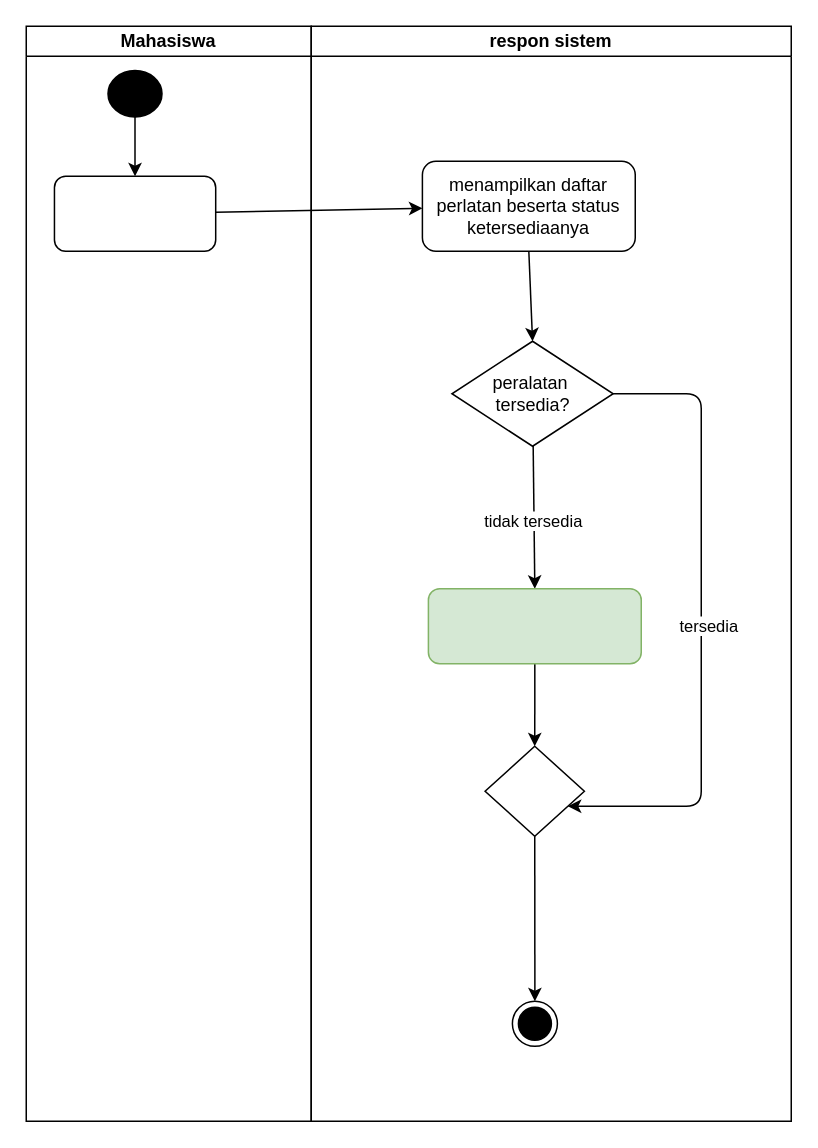
Some shapes in this 818 by 1148 pixel diagram are drawn without their labels. Each missing label, with the centre of its shape:
membuka fungsi lihat ketersediaan peralatan: (134,213)
menampilkan pesan tidak ada peralaran yang tersdia: (534,625)
